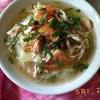soto: (3, 3, 99, 88)
